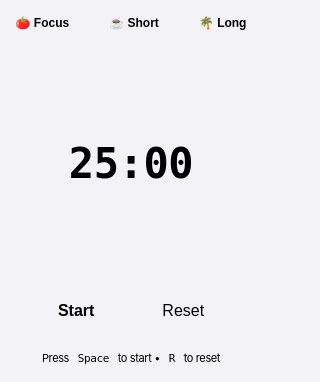
PomodoroTimer › starts and pauses timer
The image size is (320, 382).
Click the button "Start" at (76, 311), box [30, 288, 122, 334]
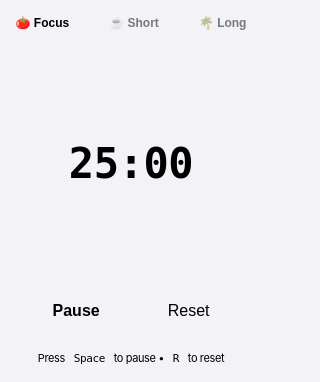
Expected: the button "Pause" is shown
# Click again to pause
Click the button "Pause" at (76, 311), box [24, 288, 128, 334]
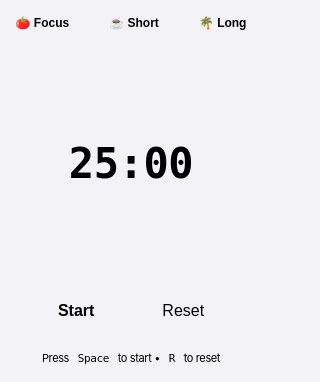
Expected: the button "Start" is shown, [30, 288, 122, 334]
